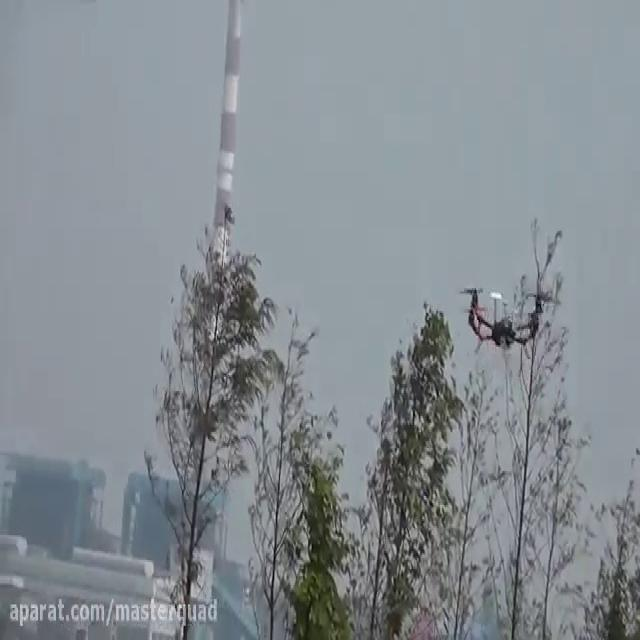drone: (457, 279, 560, 350)
